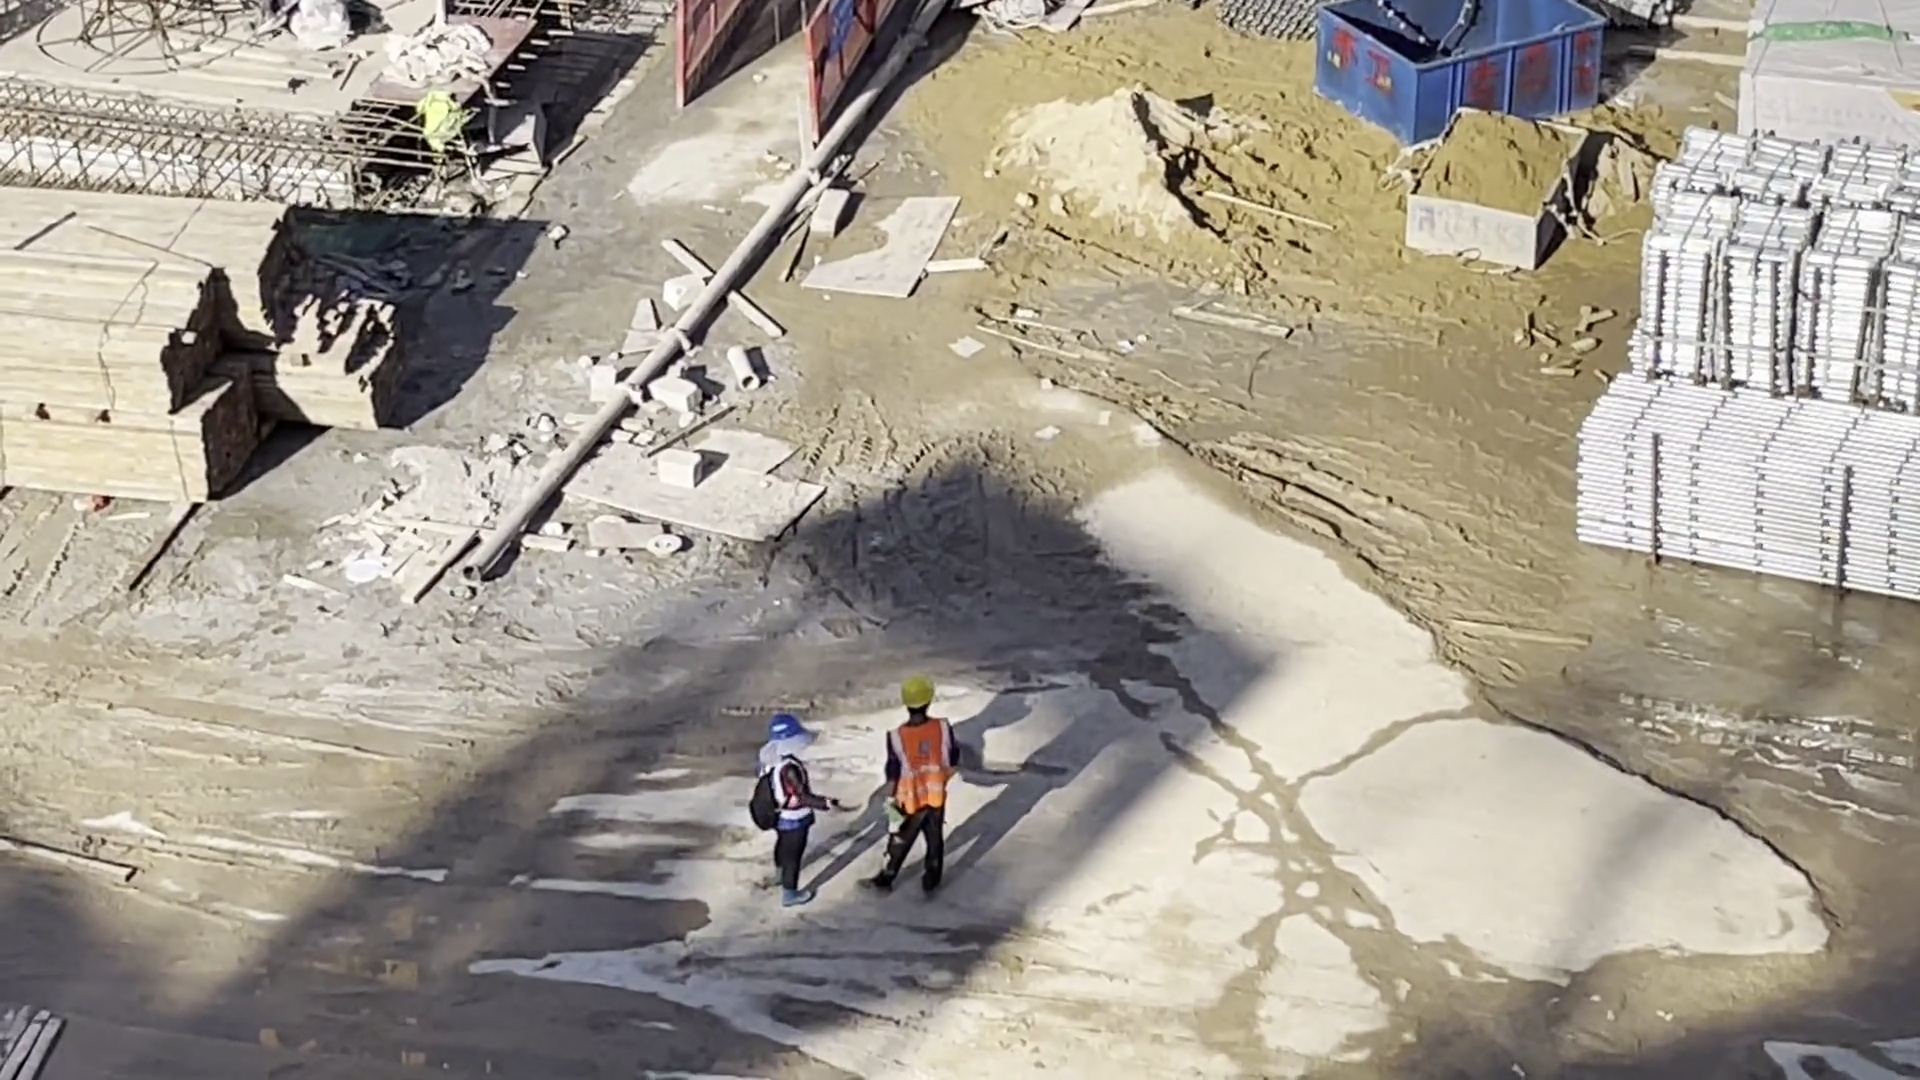fence: (681, 1, 883, 103)
helmet: (902, 679, 936, 708), (769, 714, 801, 740)
hopper: (1315, 1, 1606, 147), (1406, 108, 1588, 272)
person: (873, 683, 958, 903), (756, 716, 821, 906)
scaffold: (1585, 383, 1920, 603), (1644, 139, 1920, 399)
slogan: (828, 1, 854, 56)
vest: (893, 723, 943, 814), (765, 757, 811, 834)
wood: (1, 190, 278, 489)
